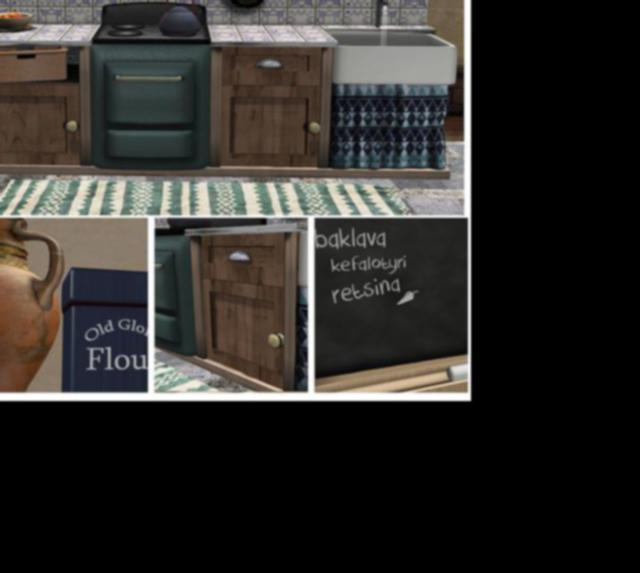Lavaplatos: (328, 0, 454, 82)
